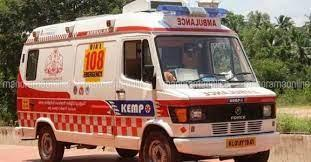ER: (16, 1, 281, 162)
